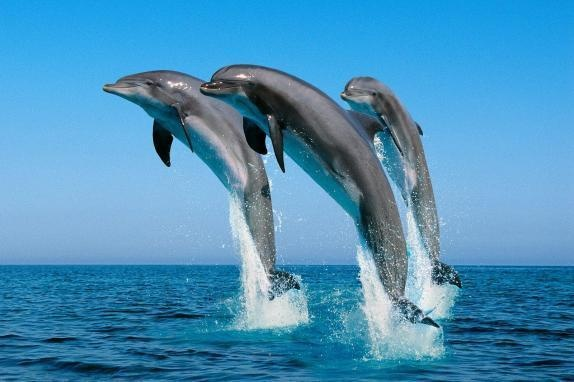fish: (199, 57, 442, 331), (101, 67, 303, 297), (339, 75, 465, 291)
